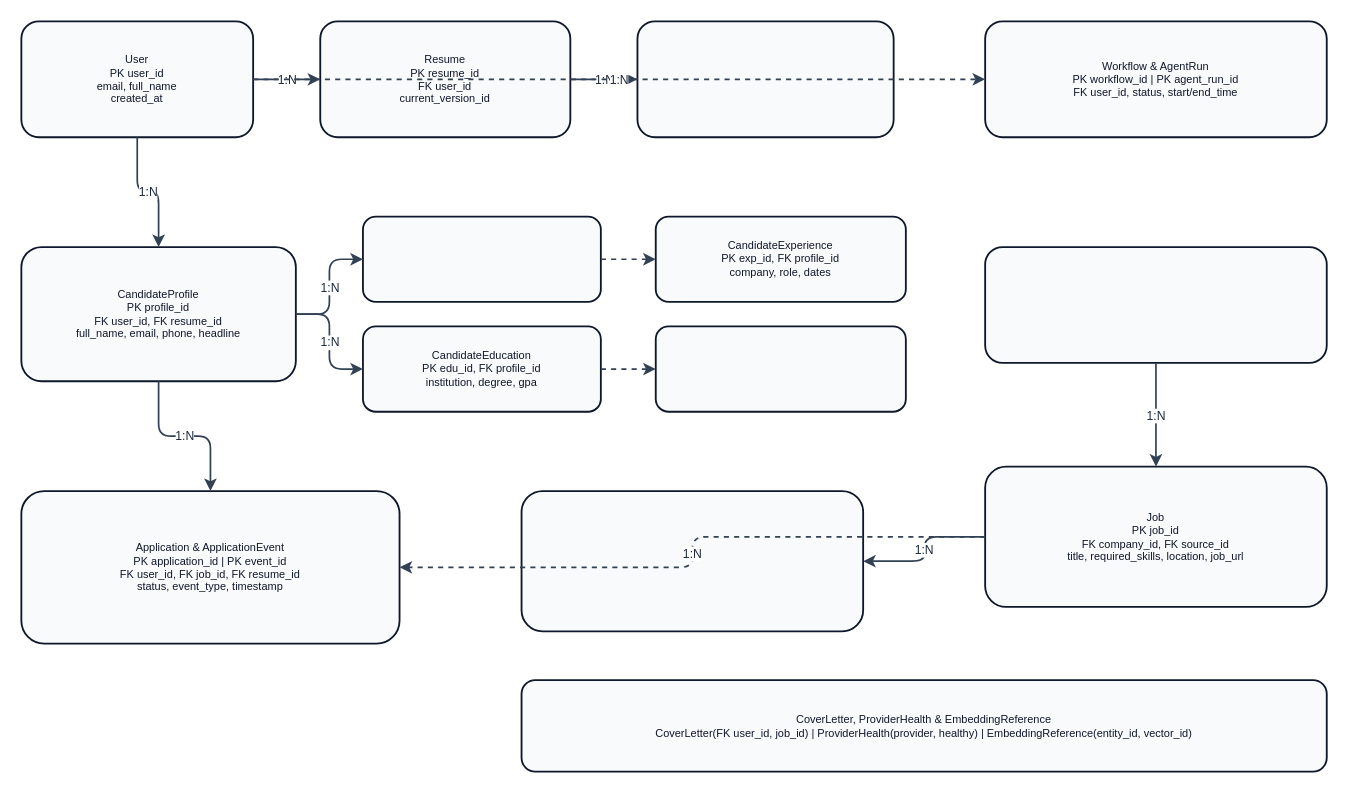
Some shapes in this 1349 by 794 pixel diagram are drawn without their labels. The shapes that lost their labels are listed below. From the top down, each one's box as (x1, y1, x2, y2) in pixels, then its label:
(636, 20, 894, 138): ResumeVersion PK version_id FK resume_id resume_content, ats_score
(361, 215, 601, 302): CandidateSkill PK skill_id, FK profile_id skill_name, category
(984, 246, 1327, 363): Company & JobSource PK company_id | PK source_id name, website, industry, type
(654, 325, 906, 412): CandidateProject PK project_id, FK profile_id title, technologies
(520, 490, 864, 632): JobMatch PK match_id FK user_id, FK job_id match_score, semantic, skills, reason
